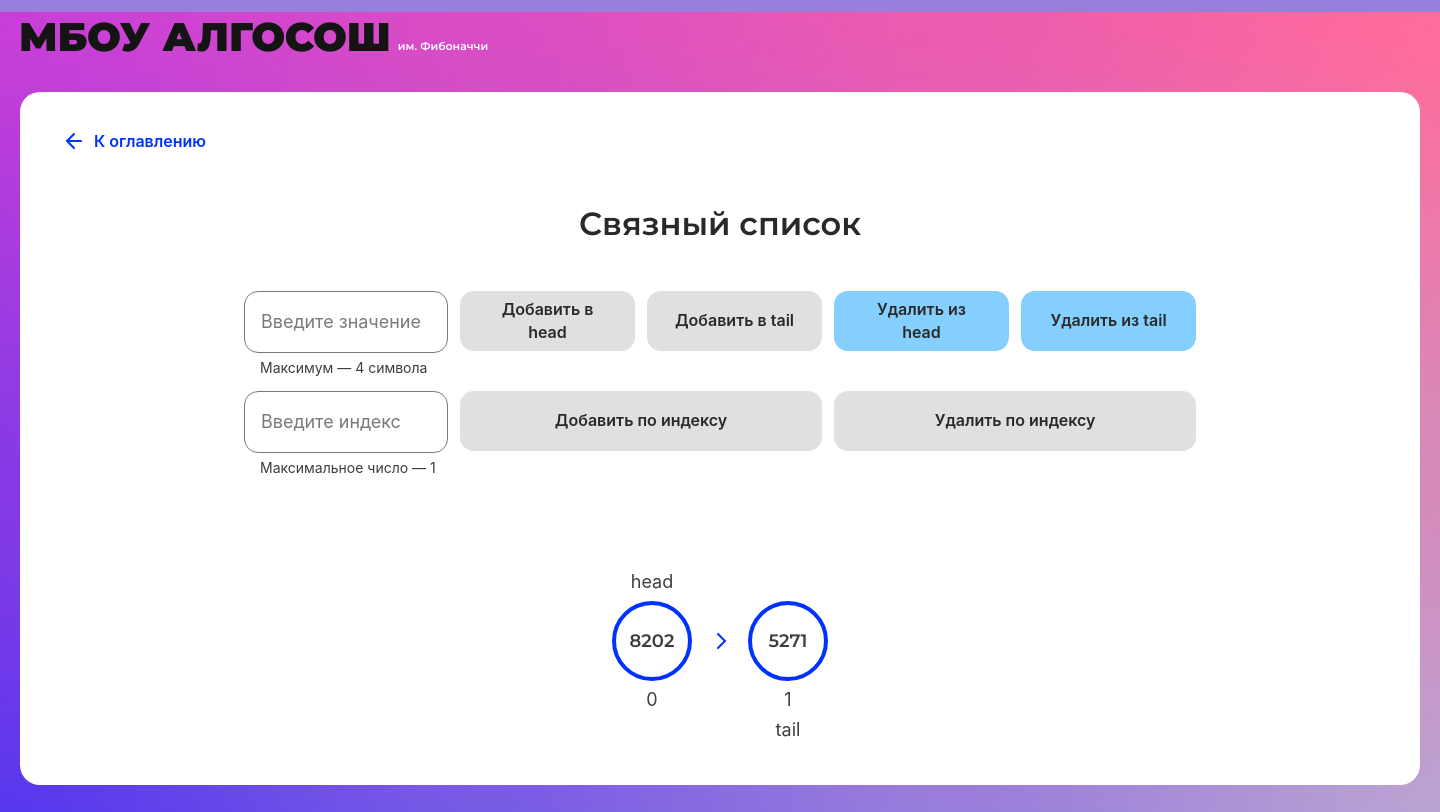
Test: page open correctly › should add element to tail correctly
This screenshot has width=1440, height=812.
Type "666" into the field with placeholder "Введите значение". click: {"x": 346, "y": 322}
box: 244,291 -> 448,353
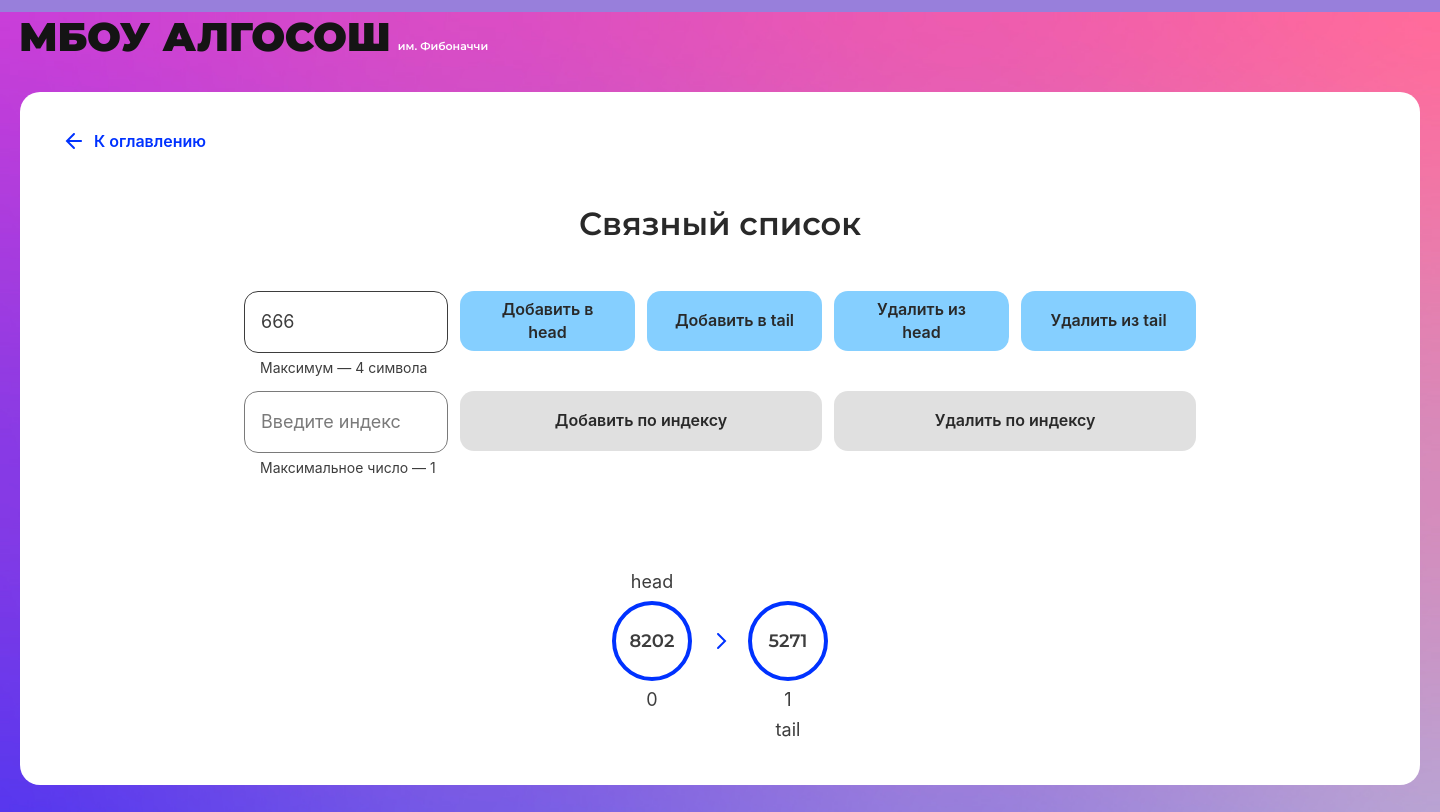
Expected: the button is enabled
Click the button "Добавить в tail". click: {"x": 735, "y": 321}
box: 647,291 -> 822,351
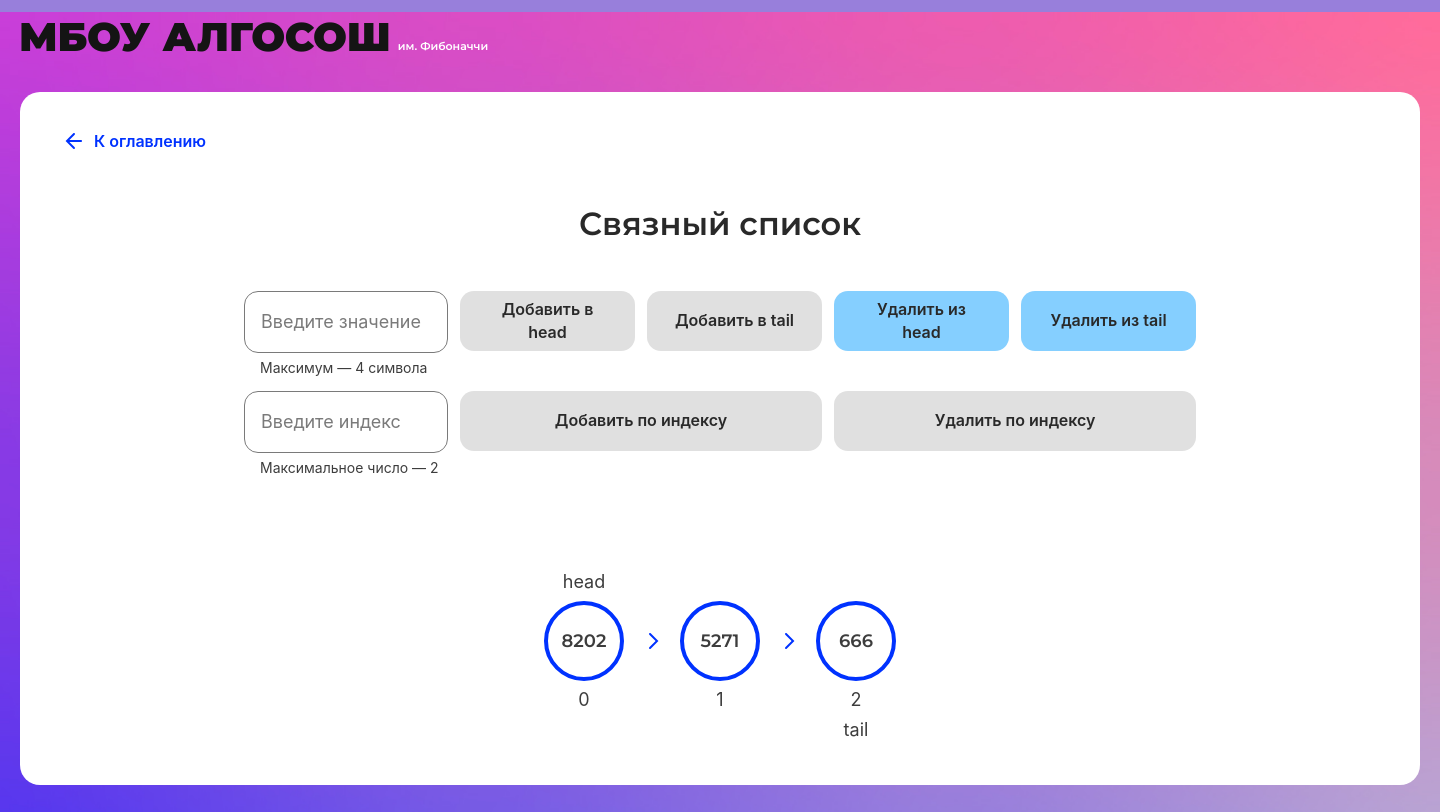
Expected: the text with test id "tail" reads "tail", 844,719 -> 869,741
Expected: the text with test id "letter" reads "666", 839,630 -> 873,652
